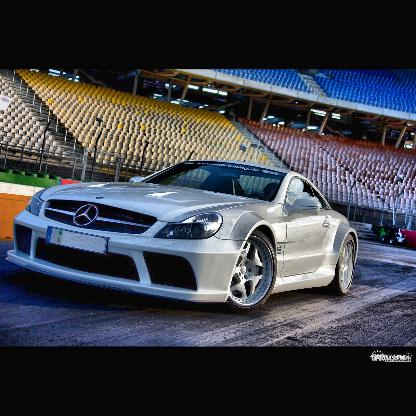Mercedes-Benz SL-Class Coupe 2009: (7, 161, 360, 316)
